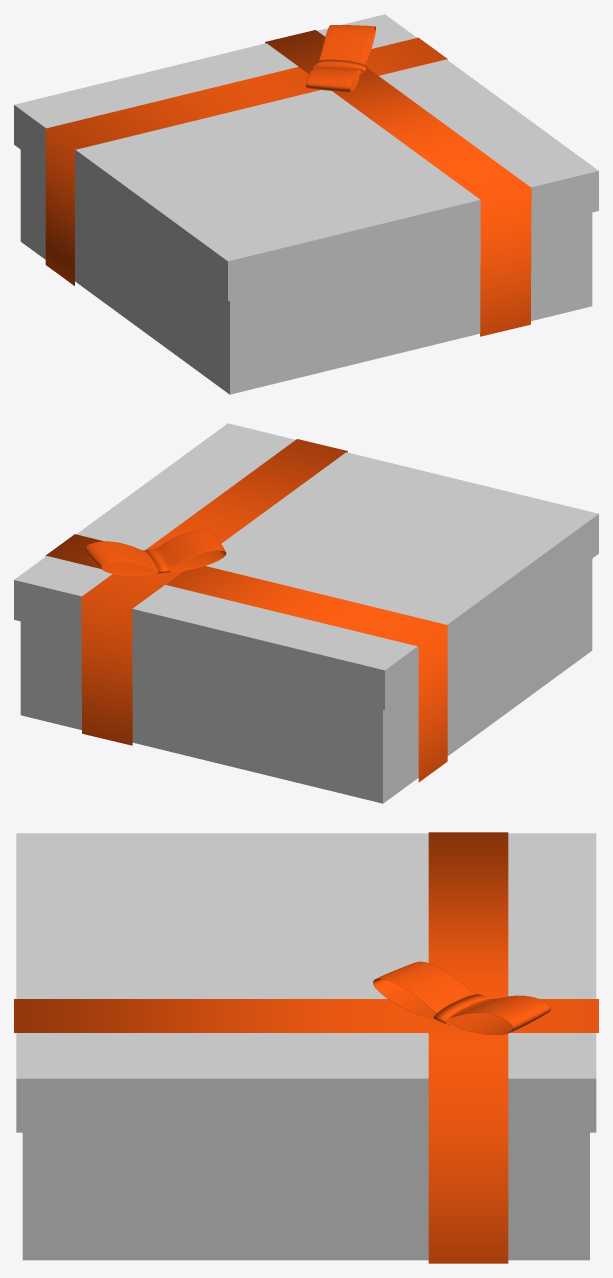
Rendered from Presente_00.fbx.
The picture shows the model from 3 angles, top to bottom: view 1: azimuth 30°, elevation 25°; view 2: azimuth 150°, elevation 25°; view 3: azimuth 270°, elevation 25°; orthographic projection. The views are drawn at different scales.
Visible parts, largest first — view 1: Presente_00; view 2: Presente_00; view 3: Presente_00.
Part boxes in pixels (x1,y1,x2,y2): Presente_00: (14,14,598,394); Presente_00: (14,423,598,803); Presente_00: (14,832,598,1263).
Bounding box in the file's own units: 144 × 58.92 × 145.
